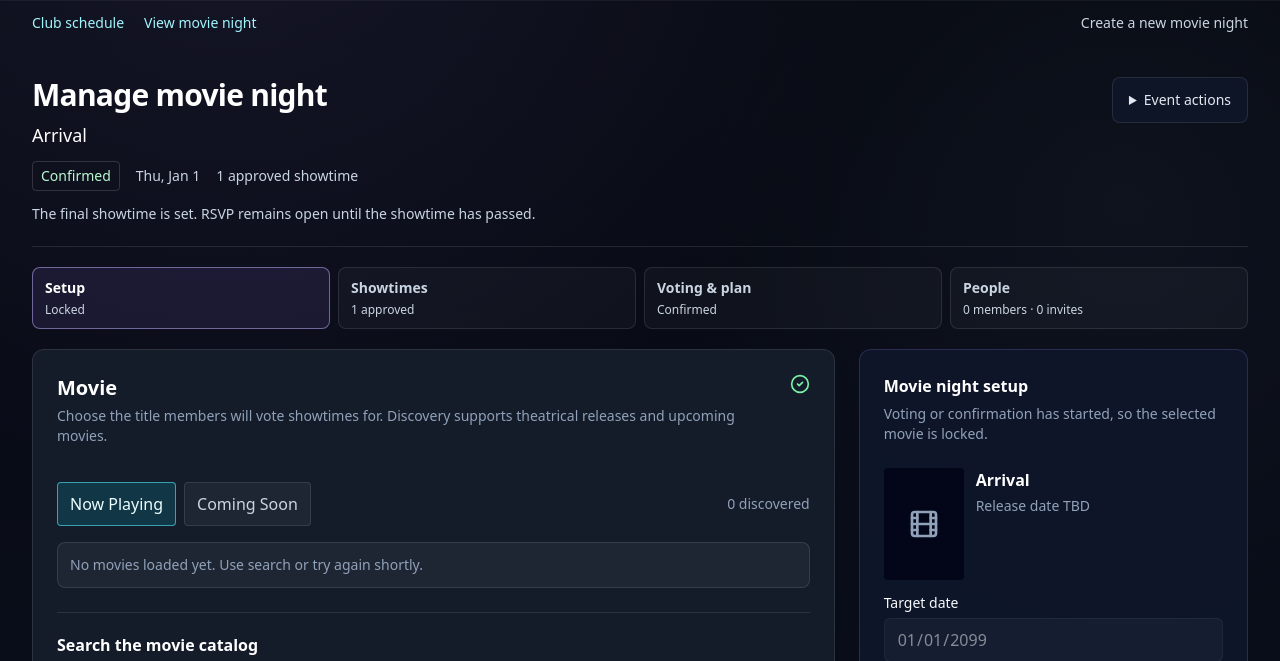
Test: event administration lifecycle › retains event controls when optional vote results fail to load
Click the heading "Event actions" at (1187, 100), box [1144, 90, 1231, 109]
(page scrolled)
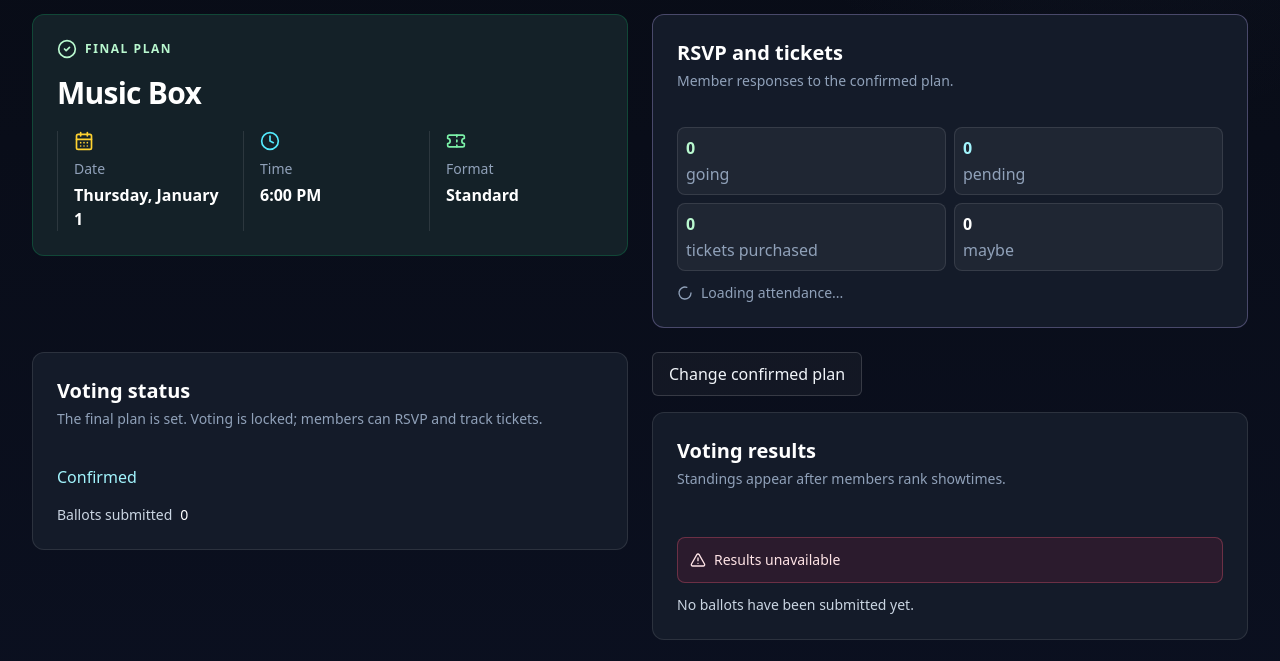
Now the message reads "Results unavailable", box [714, 550, 840, 569]
